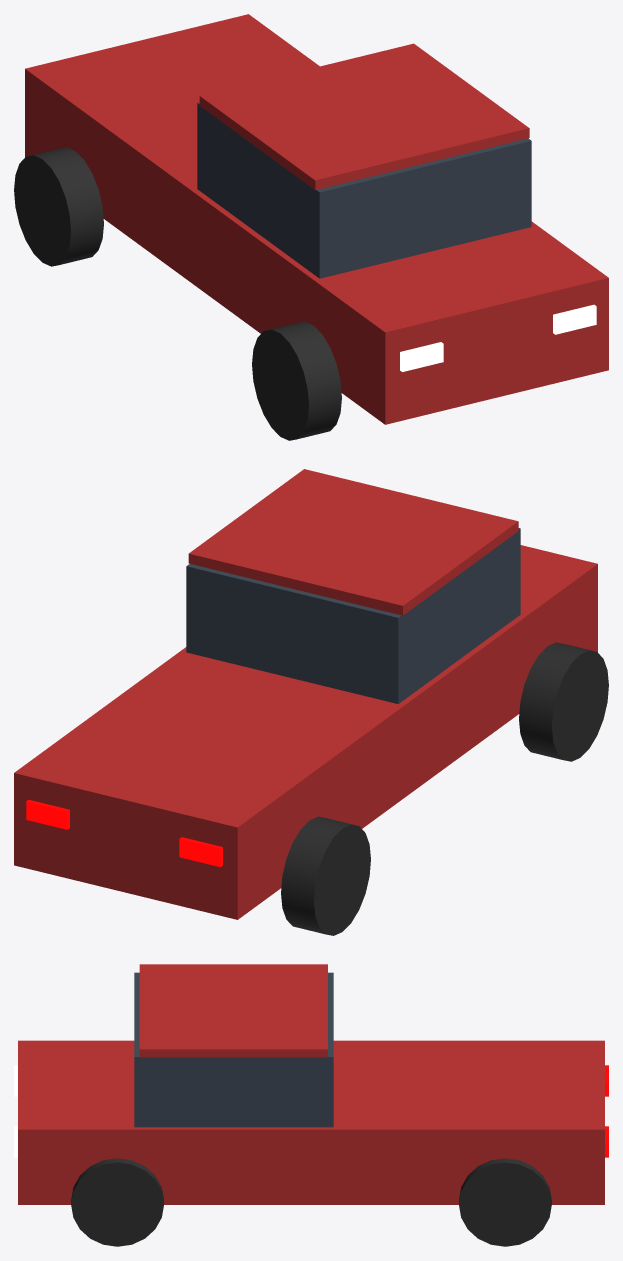
The model's file is pickup.glb.
The picture shows the model from 3 angles, top to bottom: view 1: azimuth 30°, elevation 25°; view 2: azimuth 150°, elevation 25°; view 3: azimuth 270°, elevation 25°; orthographic projection. The views are drawn at different scales.
Parts seen in each view (by area): view 1: Pickup; view 2: Pickup; view 3: Pickup.
Part boxes in pixels (x1,y1,x2,y2): Pickup: (14, 14, 608, 440); Pickup: (14, 469, 608, 935); Pickup: (14, 964, 608, 1246).
Size of the model in its own units: 2.36 by 1.9 by 5.37.
